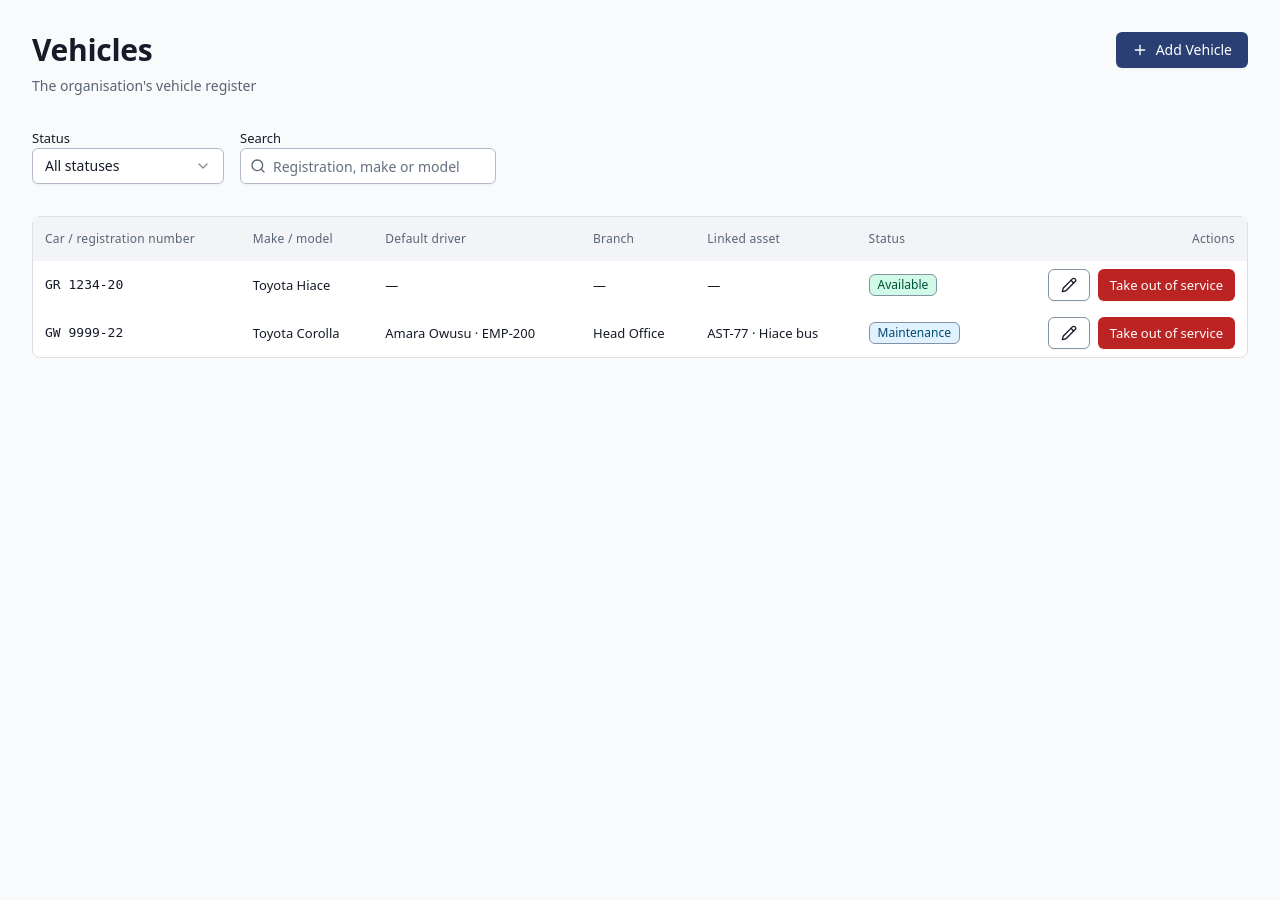
Test: Vehicle register — adding a vehicle › exposes every authorized register field when adding
This screenshot has width=1280, height=900.
Click the button with test id "button-add-vehicle": (1182, 50) [1116,32,1248,68]
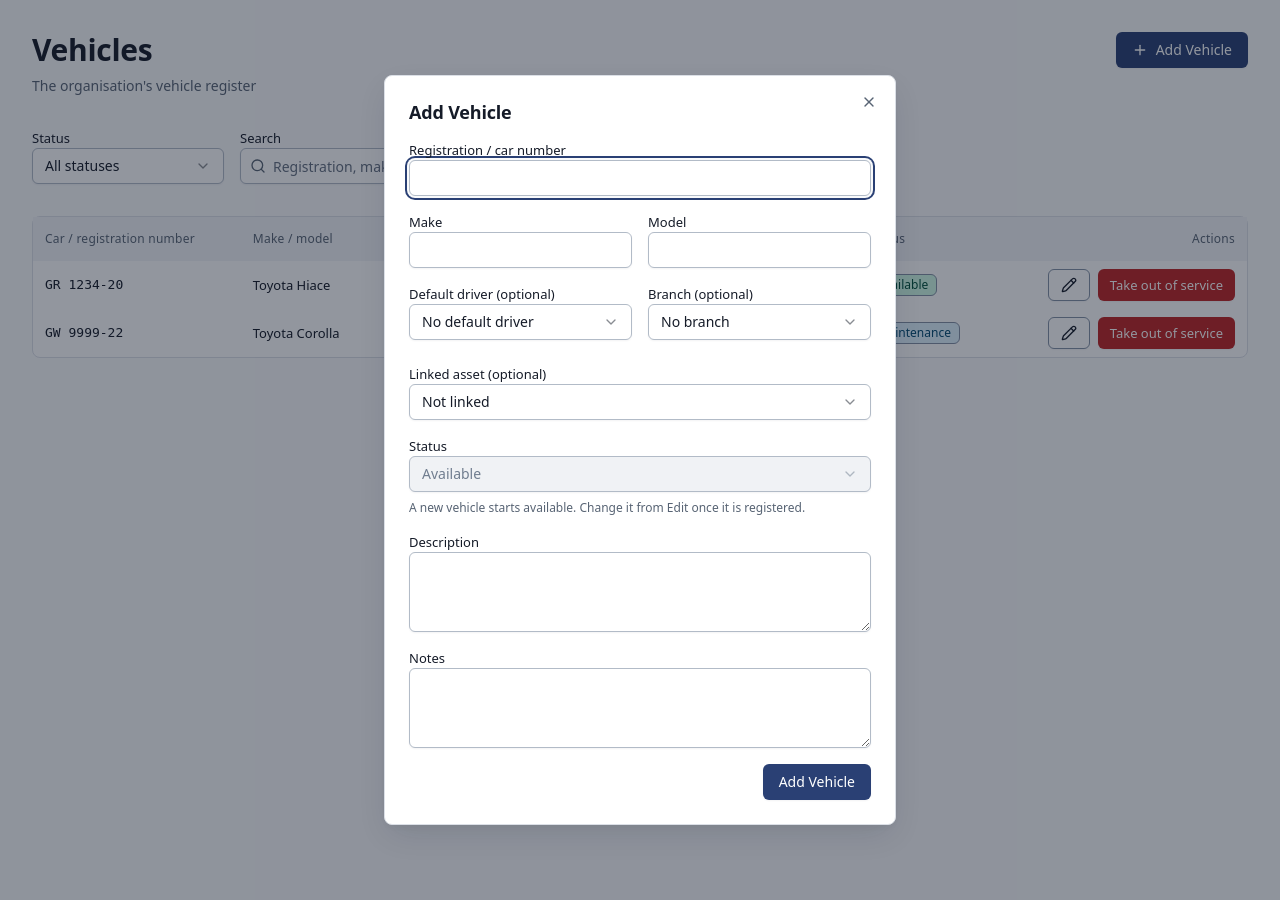
Check: the field with test id "input-vehicle-registration" is shown, box [409,160,871,196]
Check: the field with test id "input-vehicle-make" is shown, box [409,232,632,268]
Check: the field with test id "input-vehicle-model" is shown, box [648,232,871,268]
